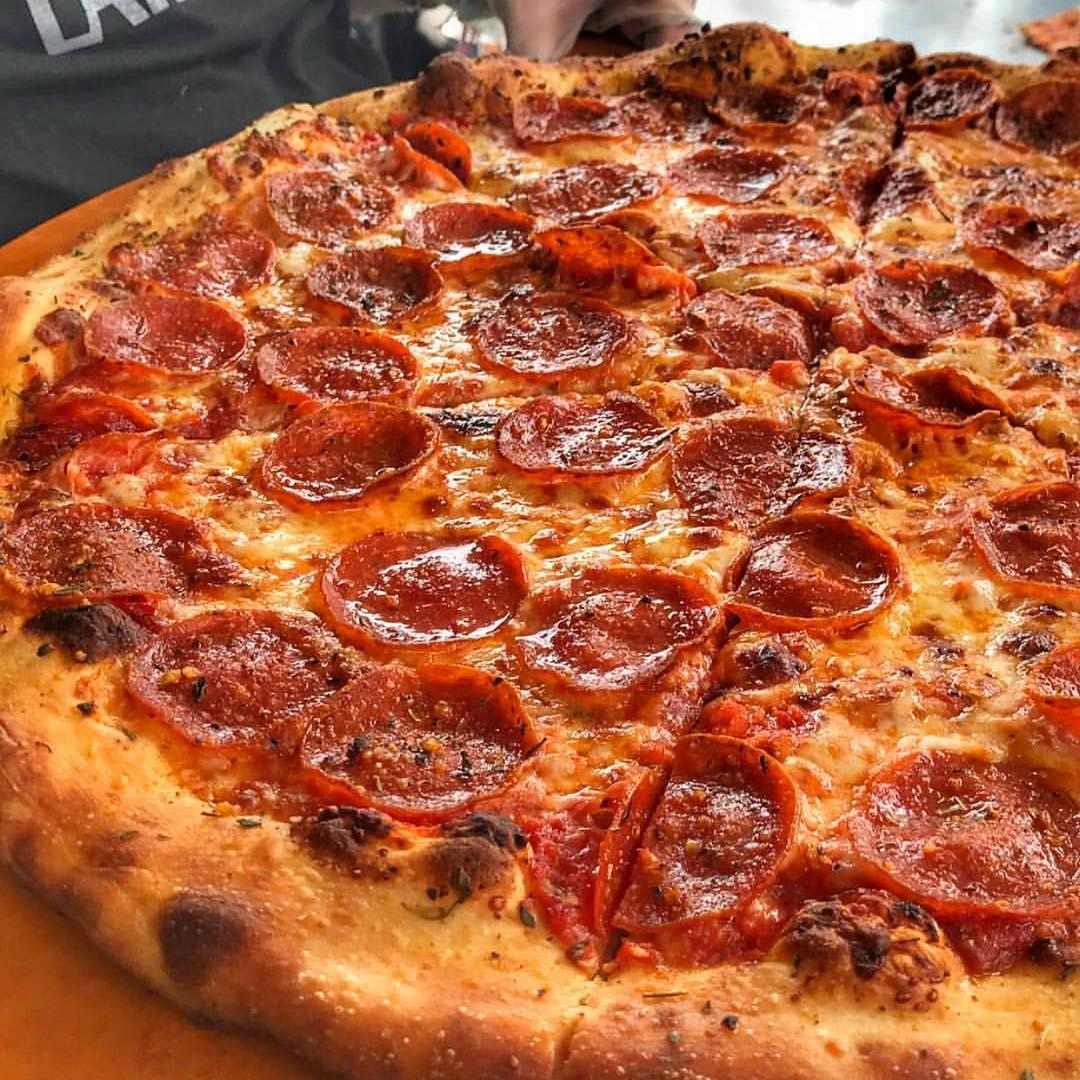Pepperoni: (856, 743, 1080, 919), (302, 665, 547, 822), (597, 730, 794, 921), (120, 615, 341, 740), (510, 565, 717, 698), (320, 531, 522, 648), (726, 514, 898, 630), (0, 504, 192, 598), (261, 399, 437, 499), (968, 477, 1080, 601), (676, 423, 846, 502), (502, 396, 666, 476), (860, 257, 1009, 345), (469, 291, 626, 368), (258, 321, 416, 395), (84, 298, 237, 374), (109, 231, 279, 299), (848, 362, 1002, 429), (693, 285, 818, 364), (955, 190, 1080, 267), (307, 249, 448, 315), (403, 200, 544, 262), (259, 169, 390, 232), (703, 207, 848, 262), (678, 141, 805, 196), (897, 71, 1005, 132), (524, 169, 653, 220), (512, 88, 627, 141), (391, 113, 468, 186)
Pizza: (0, 40, 1080, 1080)
